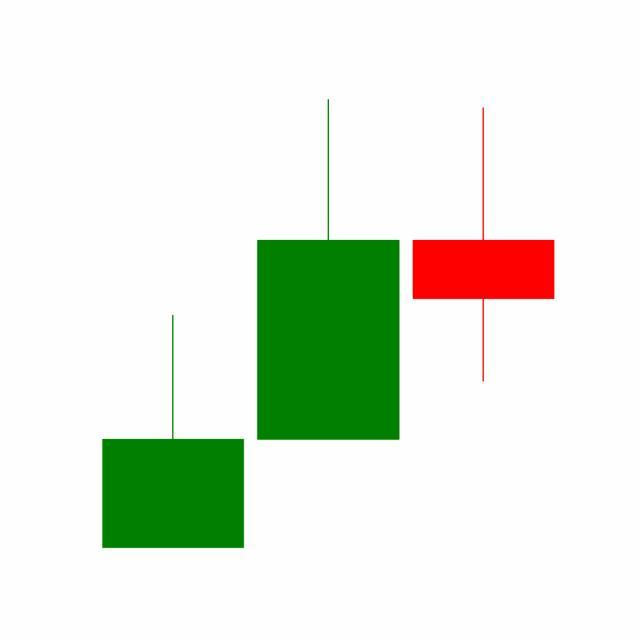Spinning Top: (406, 105, 562, 386)
